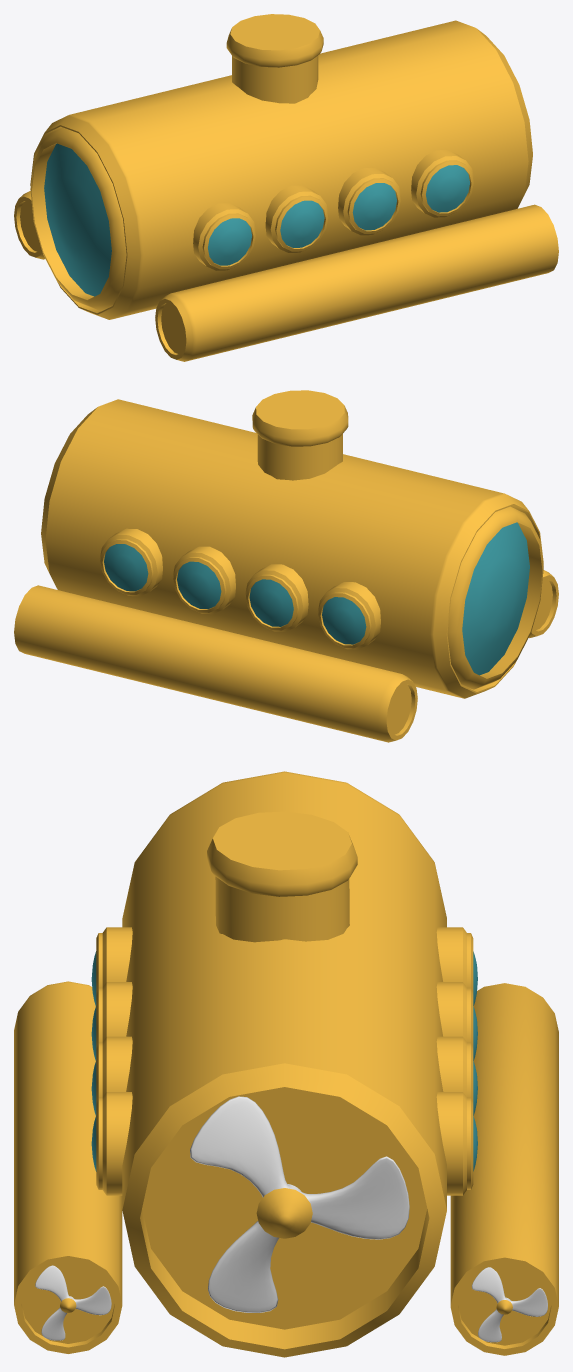
Rendered from Submarine_Test.FBX.
3 views of the same model, one above another, from view 1: azimuth 30°, elevation 25°; view 2: azimuth 150°, elevation 25°; view 3: azimuth 270°, elevation 25° (orthographic). The views are drawn at different scales.
Parts seen in each view (by area): view 1: MainSub, BallastTankL, BallastTankR; view 2: MainSub, BallastTankR, BallastTankL; view 3: MainSub, BallastTankR, BallastTankL, PropellerMain, PropellerRight001, PropellerRight.
Part boxes in pixels (x1,y1,x2,y2): MainSub: (30, 14, 532, 319); BallastTankL: (155, 204, 558, 361); BallastTankR: (14, 191, 45, 259); MainSub: (41, 390, 543, 698); BallastTankR: (14, 585, 417, 742); BallastTankL: (528, 570, 558, 638); MainSub: (91, 771, 477, 1357); BallastTankR: (450, 983, 558, 1355); BallastTankL: (14, 981, 122, 1353); PropellerMain: (190, 1096, 409, 1312); PropellerRight001: (35, 1265, 111, 1340); PropellerRight: (471, 1267, 547, 1342).
Bounding box in the file's own units: 68.31 × 36.88 × 49.56.
